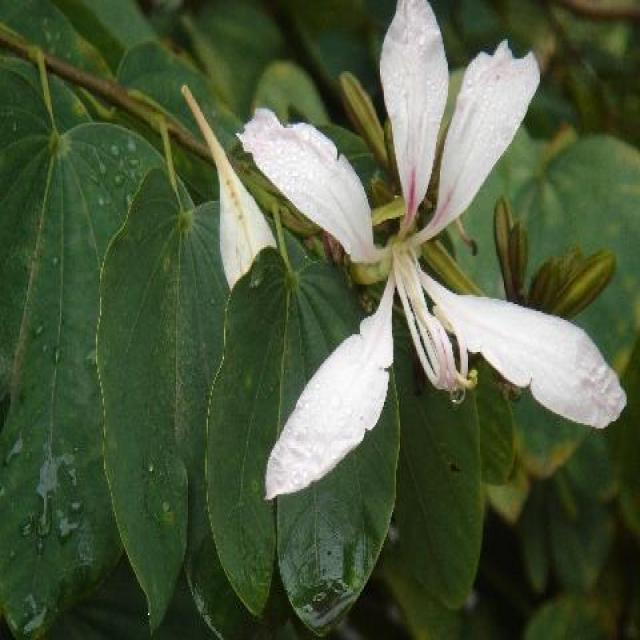organic waste: (242, 12, 629, 458)
